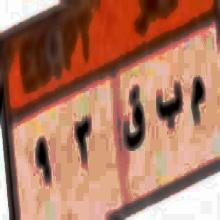3: (73, 108, 97, 180)
9: (29, 128, 58, 197)
baa: (156, 77, 185, 138)
meem: (189, 70, 205, 136)
qaaf: (123, 80, 145, 166)
